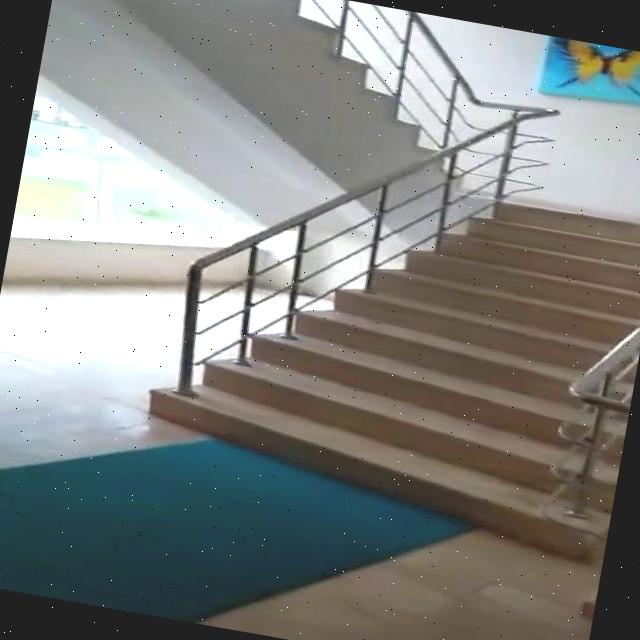stairs: (130, 140, 640, 564)
